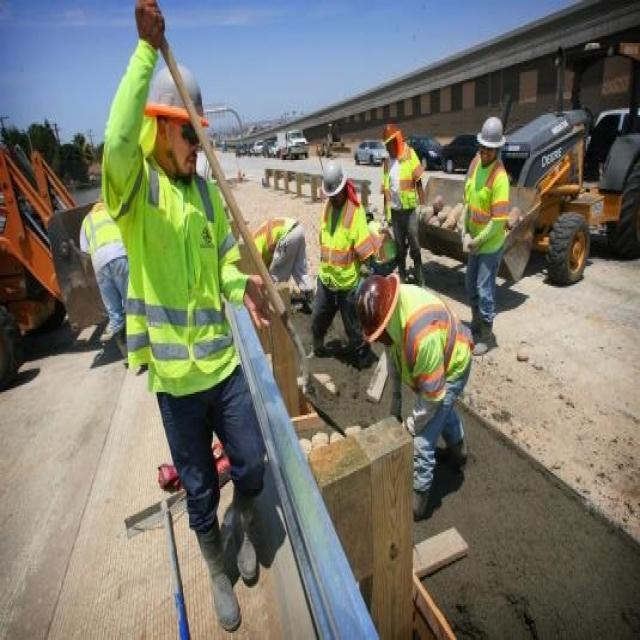Con_Casco: (361, 275, 403, 348), (476, 117, 507, 152), (318, 159, 347, 196)
Con_Chaleco: (126, 169, 237, 375), (405, 284, 473, 401), (465, 156, 509, 252), (318, 200, 361, 285)
